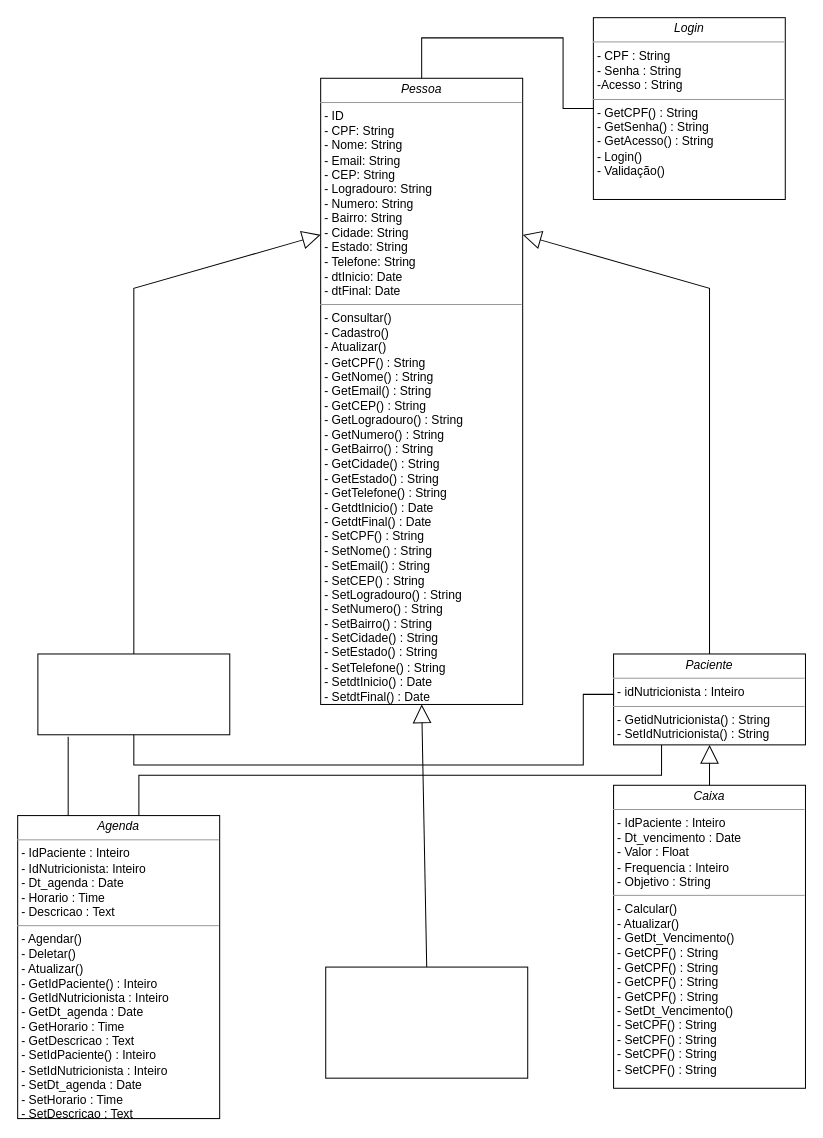
The diagram is 823 pixels wide and 1138 high, and some of its shapes have lost their labels. Each missing label, with the centre of its shape:
Funcionarios: the point at 426,1022
Nutricionista: the point at 133,694
